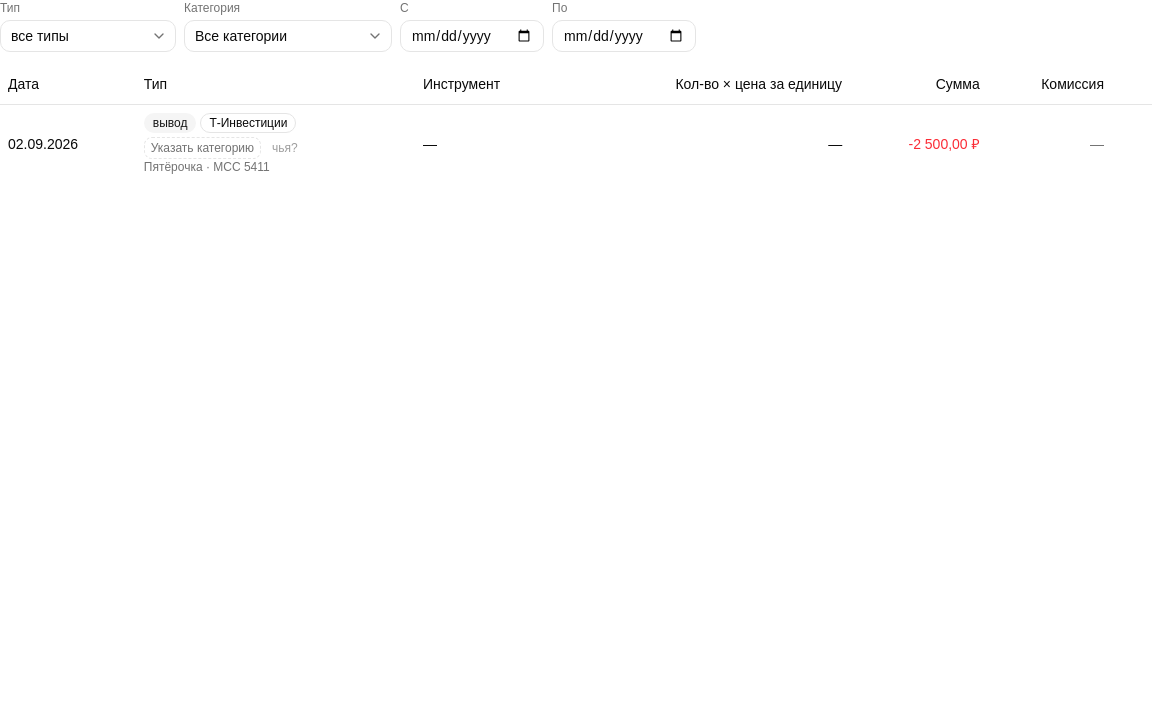
Test: the journal's categories › finds a category by a word of it or of its parent
Step 1. Click the button with test id "operation-category" → click(202, 148), box [144,136,261,158]
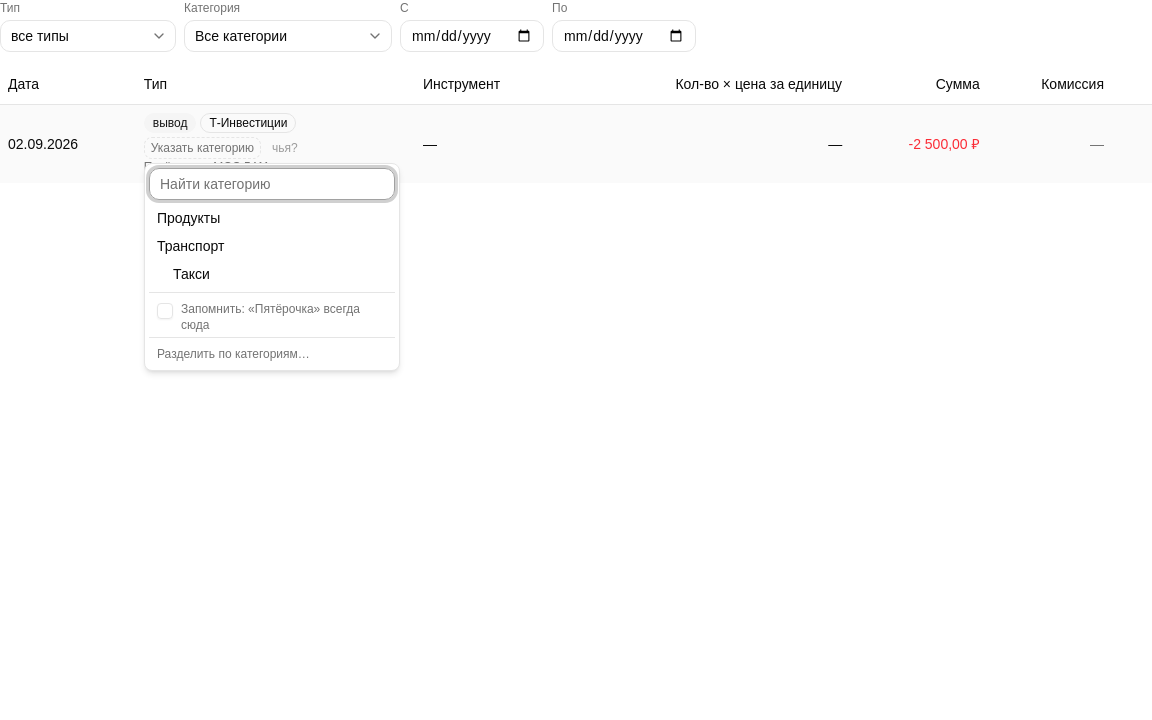
Step 2. Type "транс" into the field labelled "Найти категорию" → (272, 184), box [149,168,395,200]
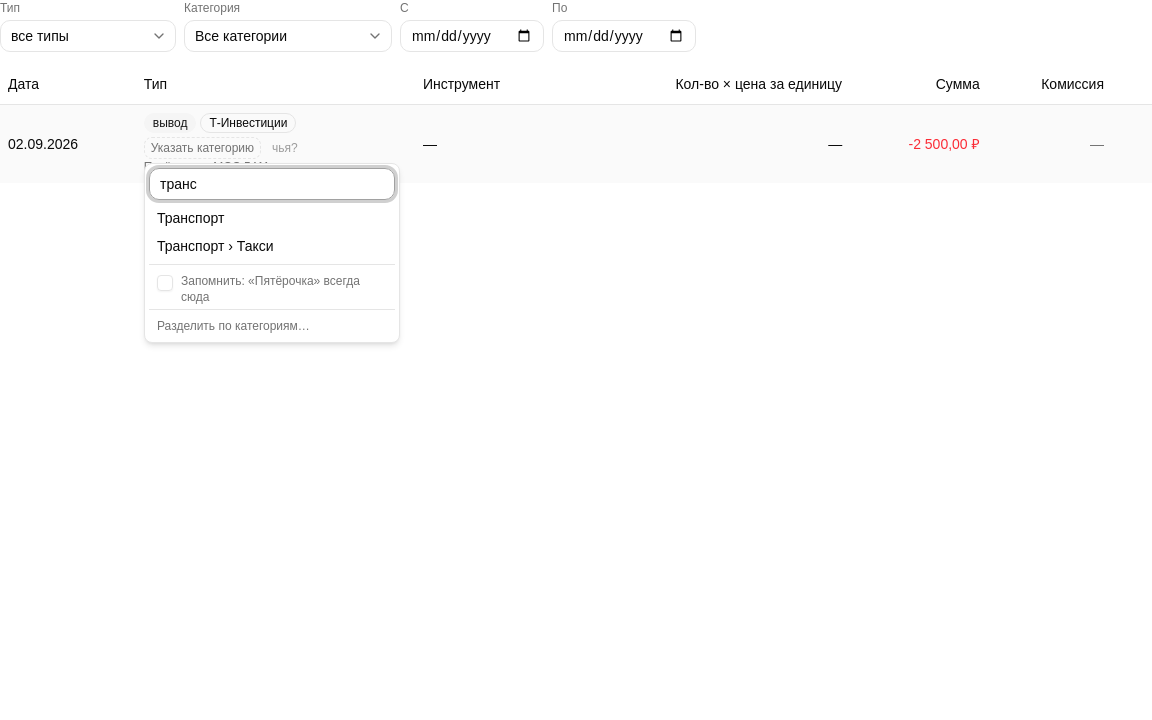
Now the options read "Транспорт", "Транспорт › Такси", in this order, box [149,204,395,232]; [149,232,395,260]
